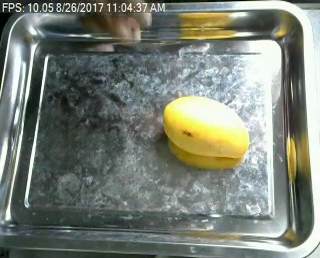Mango: (158, 90, 252, 163)
